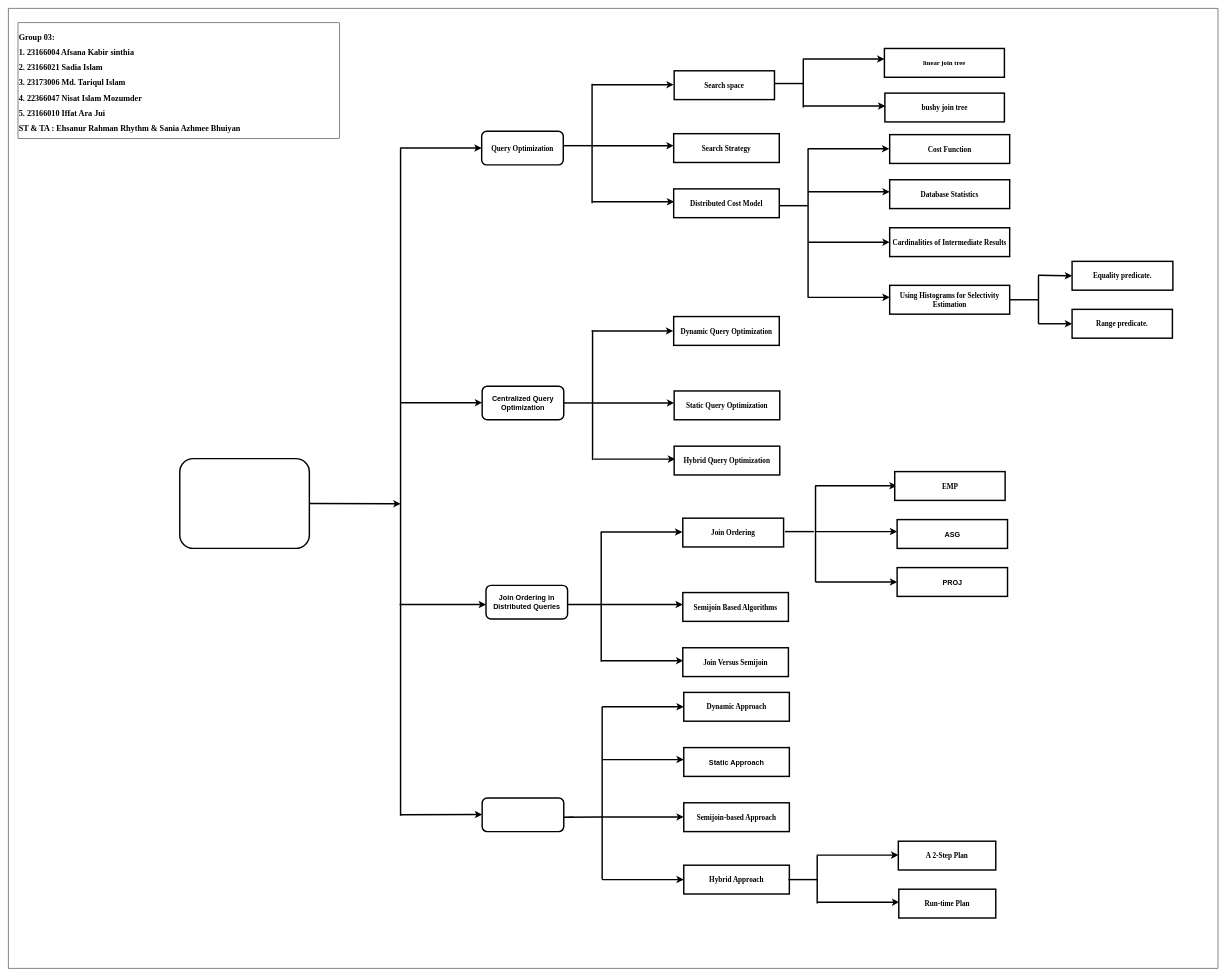
This 1227x977 diagram has some shape labels left out. The centre of each missing label's shape, as x and y in pixels:
"Distributed Query Optimization" belongs at point 522,814.
"Optimization of Distributed Queries" belongs at point 244,503.
